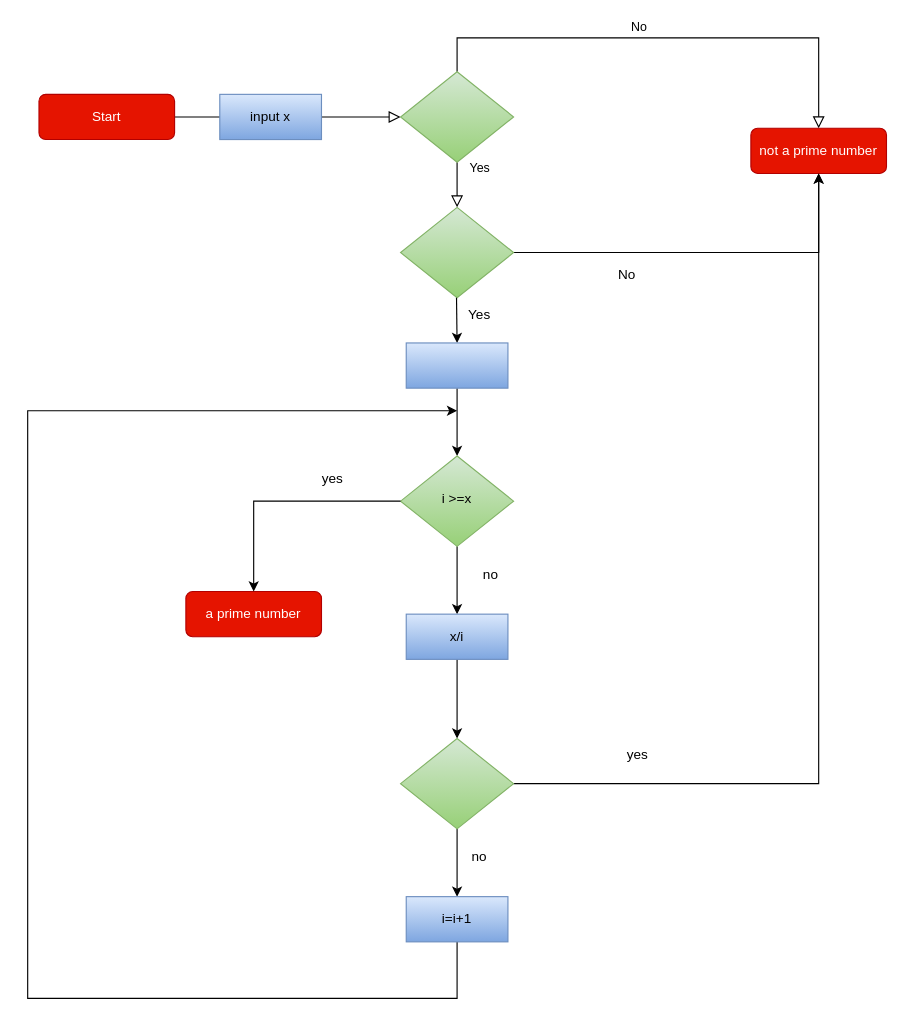
Some shapes in this 906 by 1027 pixel diagram are drawn without their labels. Each missing label, with the centre of its shape:
i=2: point 456,365
x >=1?: point 456,252
x is number?: point 456,116
x/i is integer number: point 456,783
